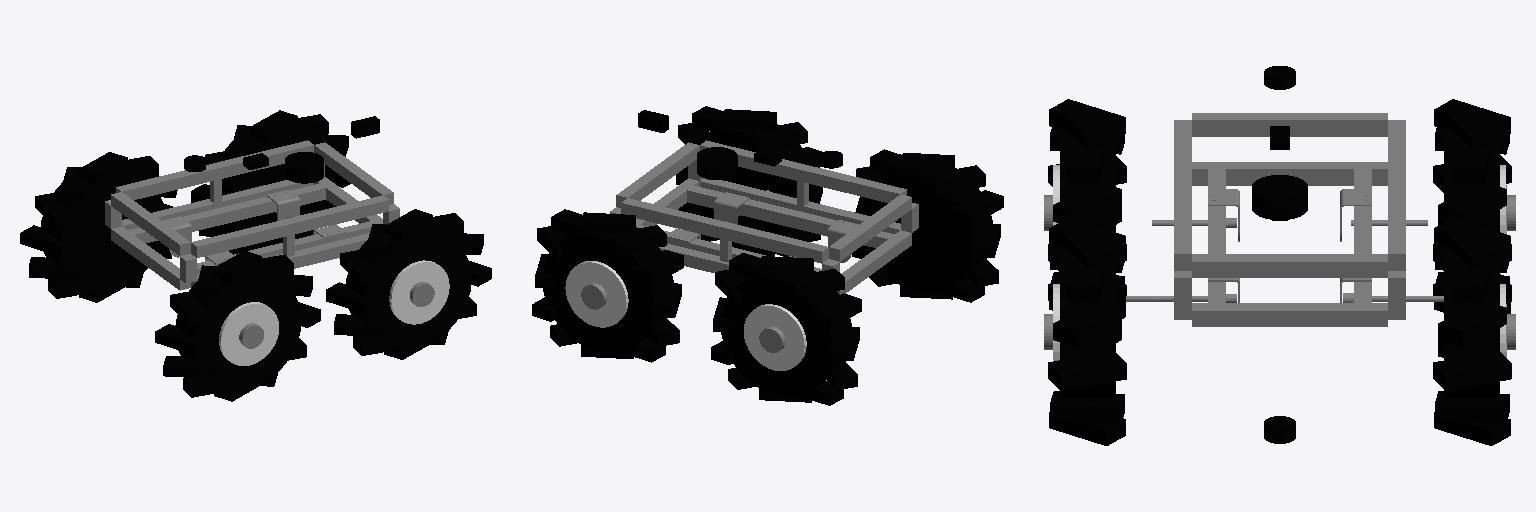
The robot description file, URDF, robot "agrobot":
<?xml version="1.0"?>

<robot name="agrobot">

  <webots>
    <!-- /scan é publicado pelo AgrobotDriver (stamps em tempo de simulação) -->
    <device reference="front_lidar" type="Lidar">
      <ros>
        <enabled>false</enabled>
      </ros>
    </device>
    <plugin type="agrobot_webots.agrobot_driver.AgrobotDriver">
      <wheelRadius>0.22</wheelRadius>
      <wheelSeparation>0.96</wheelSeparation>
      <wheelSeparationScale>1.33</wheelSeparationScale>
      <!-- /odom + TF odom->base_link pelo driver; o simulation.launch.py
           troca para false com ekf:=true (quem publica é o EKF) -->
      <publishOdom>true</publishOdom>
    </plugin>
  </webots>

  <material name="aluminium">
    <color rgba="0.55 0.55 0.55 1"/>
  </material>

  <material name="black">
    <color rgba="0.02 0.02 0.02 1"/>
  </material>

  <material name="white">
    <color rgba="0.85 0.85 0.85 1"/>
  </material>

  <!-- CHASSIS REAL DO CAD -->
  <link name="base_link">
    <visual>
      <origin xyz="-0.5 -0.25 0.05" rpy="0 0 0"/>
      <geometry>
        <mesh filename="package://agrobot_description/meshes/chassis.stl"
              scale="0.001 0.001 0.001"/>
      </geometry>
      <material name="aluminium"/>
    </visual>

    <collision>
      <origin xyz="0 0 0.20"/>
      <geometry>
        <box size="1.2 0.8 0.35"/>
      </geometry>
    </collision>

    <!-- Massa do chassis + estrutura. Total com rodas ≈ 46 kg -->
    <inertial>
      <mass value="37.2"/>
      <origin xyz="0 0 0.20"/>
      <inertia ixx="2" iyy="2" izz="2" ixy="0" ixz="0" iyz="0"/>
    </inertial>
  </link>


  <!-- MACRO VISUAL REPETIDA MANUALMENTE: RODA AGRÍCOLA -->

  <!-- RODA FRENTE ESQUERDA -->
  <link name="front_left_wheel">

    <!-- pneu principal -->
    <visual>
      <origin xyz="0 0 0" rpy="1.5708 0 0"/>
      <geometry>
        <cylinder radius="0.22" length="0.14"/>
      </geometry>
      <material name="black"/>
    </visual>

    <!-- jante branca -->
    <visual>
      <origin xyz="0 0.075 0" rpy="1.5708 0 0"/>
      <geometry>
        <cylinder radius="0.12" length="0.02"/>
      </geometry>
      <material name="white"/>
    </visual>

    <!-- cubo central -->
    <visual>
      <origin xyz="0 0.09 0" rpy="1.5708 0 0"/>
      <geometry>
        <cylinder radius="0.045" length="0.035"/>
      </geometry>
      <material name="aluminium"/>
    </visual>

    <!-- garras agrícolas -->
    <visual><origin xyz="0.23 0 0" rpy="0 0 0.40"/><geometry><box size="0.08 0.18 0.045"/></geometry><material name="black"/></visual>
    <visual><origin xyz="0.199 0 0.115" rpy="0 0 0.92"/><geometry><box size="0.08 0.18 0.045"/></geometry><material name="black"/></visual>
    <visual><origin xyz="0.115 0 0.199" rpy="0 0 1.45"/><geometry><box size="0.08 0.18 0.045"/></geometry><material name="black"/></visual>
    <visual><origin xyz="0 0 0.23" rpy="0 0 1.97"/><geometry><box size="0.08 0.18 0.045"/></geometry><material name="black"/></visual>
    <visual><origin xyz="-0.115 0 0.199" rpy="0 0 2.50"/><geometry><box size="0.08 0.18 0.045"/></geometry><material name="black"/></visual>
    <visual><origin xyz="-0.199 0 0.115" rpy="0 0 3.02"/><geometry><box size="0.08 0.18 0.045"/></geometry><material name="black"/></visual>
    <visual><origin xyz="-0.23 0 0" rpy="0 0 3.54"/><geometry><box size="0.08 0.18 0.045"/></geometry><material name="black"/></visual>
    <visual><origin xyz="-0.199 0 -0.115" rpy="0 0 4.07"/><geometry><box size="0.08 0.18 0.045"/></geometry><material name="black"/></visual>
    <visual><origin xyz="-0.115 0 -0.199" rpy="0 0 4.59"/><geometry><box size="0.08 0.18 0.045"/></geometry><material name="black"/></visual>
    <visual><origin xyz="0 0 -0.23" rpy="0 0 5.12"/><geometry><box size="0.08 0.18 0.045"/></geometry><material name="black"/></visual>
    <visual><origin xyz="0.115 0 -0.199" rpy="0 0 5.64"/><geometry><box size="0.08 0.18 0.045"/></geometry><material name="black"/></visual>
    <visual><origin xyz="0.199 0 -0.115" rpy="0 0 6.16"/><geometry><box size="0.08 0.18 0.045"/></geometry><material name="black"/></visual>

    <collision>
      <origin xyz="0 0 0" rpy="1.5708 0 0"/>
      <geometry>
        <cylinder radius="0.22" length="0.14"/>
      </geometry>
    </collision>

    <inertial>
      <mass value="2.2"/>
      <origin xyz="0 0 0"/>
      <inertia ixx="0.04" iyy="0.04" izz="0.04" ixy="0" ixz="0" iyz="0"/>
    </inertial>
  </link>

  <joint name="front_left_wheel_joint" type="continuous">
    <parent link="base_link"/>
    <child link="front_left_wheel"/>
    <origin xyz="0.35 0.48 -0.02" rpy="0 0 0"/>
    <axis xyz="0 1 0"/>
    <limit effort="100" velocity="20"/>
  </joint>


  <!-- RODA FRENTE DIREITA -->
  <link name="front_right_wheel">
    <visual><origin xyz="0 0 0" rpy="1.5708 0 0"/><geometry><cylinder radius="0.22" length="0.14"/></geometry><material name="black"/></visual>
    <visual><origin xyz="0 -0.075 0" rpy="1.5708 0 0"/><geometry><cylinder radius="0.12" length="0.02"/></geometry><material name="white"/></visual>
    <visual><origin xyz="0 -0.09 0" rpy="1.5708 0 0"/><geometry><cylinder radius="0.045" length="0.035"/></geometry><material name="aluminium"/></visual>

    <visual><origin xyz="0.23 0 0" rpy="0 0 0.40"/><geometry><box size="0.08 0.18 0.045"/></geometry><material name="black"/></visual>
    <visual><origin xyz="0.199 0 0.115" rpy="0 0 0.92"/><geometry><box size="0.08 0.18 0.045"/></geometry><material name="black"/></visual>
    <visual><origin xyz="0.115 0 0.199" rpy="0 0 1.45"/><geometry><box size="0.08 0.18 0.045"/></geometry><material name="black"/></visual>
    <visual><origin xyz="0 0 0.23" rpy="0 0 1.97"/><geometry><box size="0.08 0.18 0.045"/></geometry><material name="black"/></visual>
    <visual><origin xyz="-0.115 0 0.199" rpy="0 0 2.50"/><geometry><box size="0.08 0.18 0.045"/></geometry><material name="black"/></visual>
    <visual><origin xyz="-0.199 0 0.115" rpy="0 0 3.02"/><geometry><box size="0.08 0.18 0.045"/></geometry><material name="black"/></visual>
    <visual><origin xyz="-0.23 0 0" rpy="0 0 3.54"/><geometry><box size="0.08 0.18 0.045"/></geometry><material name="black"/></visual>
    <visual><origin xyz="-0.199 0 -0.115" rpy="0 0 4.07"/><geometry><box size="0.08 0.18 0.045"/></geometry><material name="black"/></visual>
    <visual><origin xyz="-0.115 0 -0.199" rpy="0 0 4.59"/><geometry><box size="0.08 0.18 0.045"/></geometry><material name="black"/></visual>
    <visual><origin xyz="0 0 -0.23" rpy="0 0 5.12"/><geometry><box size="0.08 0.18 0.045"/></geometry><material name="black"/></visual>
    <visual><origin xyz="0.115 0 -0.199" rpy="0 0 5.64"/><geometry><box size="0.08 0.18 0.045"/></geometry><material name="black"/></visual>
    <visual><origin xyz="0.199 0 -0.115" rpy="0 0 6.16"/><geometry><box size="0.08 0.18 0.045"/></geometry><material name="black"/></visual>

    <collision><origin xyz="0 0 0" rpy="1.5708 0 0"/><geometry><cylinder radius="0.22" length="0.14"/></geometry></collision>
    <inertial><mass value="2.2"/><origin xyz="0 0 0"/><inertia ixx="0.04" iyy="0.04" izz="0.04" ixy="0" ixz="0" iyz="0"/></inertial>
  </link>

  <joint name="front_right_wheel_joint" type="continuous">
    <parent link="base_link"/>
    <child link="front_right_wheel"/>
    <origin xyz="0.35 -0.48 -0.02" rpy="0 0 0"/>
    <axis xyz="0 1 0"/>
    <limit effort="100" velocity="20"/>
  </joint>


  <!-- RODA TRÁS ESQUERDA -->
  <link name="rear_left_wheel">
    <visual><origin xyz="0 0 0" rpy="1.5708 0 0"/><geometry><cylinder radius="0.22" length="0.14"/></geometry><material name="black"/></visual>
    <visual><origin xyz="0 0.075 0" rpy="1.5708 0 0"/><geometry><cylinder radius="0.12" length="0.02"/></geometry><material name="white"/></visual>
    <visual><origin xyz="0 0.09 0" rpy="1.5708 0 0"/><geometry><cylinder radius="0.045" length="0.035"/></geometry><material name="aluminium"/></visual>

    <visual><origin xyz="0.23 0 0" rpy="0 0 0.40"/><geometry><box size="0.08 0.18 0.045"/></geometry><material name="black"/></visual>
    <visual><origin xyz="0.199 0 0.115" rpy="0 0 0.92"/><geometry><box size="0.08 0.18 0.045"/></geometry><material name="black"/></visual>
    <visual><origin xyz="0.115 0 0.199" rpy="0 0 1.45"/><geometry><box size="0.08 0.18 0.045"/></geometry><material name="black"/></visual>
    <visual><origin xyz="0 0 0.23" rpy="0 0 1.97"/><geometry><box size="0.08 0.18 0.045"/></geometry><material name="black"/></visual>
    <visual><origin xyz="-0.115 0 0.199" rpy="0 0 2.50"/><geometry><box size="0.08 0.18 0.045"/></geometry><material name="black"/></visual>
    <visual><origin xyz="-0.199 0 0.115" rpy="0 0 3.02"/><geometry><box size="0.08 0.18 0.045"/></geometry><material name="black"/></visual>
    <visual><origin xyz="-0.23 0 0" rpy="0 0 3.54"/><geometry><box size="0.08 0.18 0.045"/></geometry><material name="black"/></visual>
    <visual><origin xyz="-0.199 0 -0.115" rpy="0 0 4.07"/><geometry><box size="0.08 0.18 0.045"/></geometry><material name="black"/></visual>
    <visual><origin xyz="-0.115 0 -0.199" rpy="0 0 4.59"/><geometry><box size="0.08 0.18 0.045"/></geometry><material name="black"/></visual>
    <visual><origin xyz="0 0 -0.23" rpy="0 0 5.12"/><geometry><box size="0.08 0.18 0.045"/></geometry><material name="black"/></visual>
    <visual><origin xyz="0.115 0 -0.199" rpy="0 0 5.64"/><geometry><box size="0.08 0.18 0.045"/></geometry><material name="black"/></visual>
    <visual><origin xyz="0.199 0 -0.115" rpy="0 0 6.16"/><geometry><box size="0.08 0.18 0.045"/></geometry><material name="black"/></visual>

    <collision><origin xyz="0 0 0" rpy="1.5708 0 0"/><geometry><cylinder radius="0.22" length="0.14"/></geometry></collision>
    <inertial><mass value="2.2"/><origin xyz="0 0 0"/><inertia ixx="0.04" iyy="0.04" izz="0.04" ixy="0" ixz="0" iyz="0"/></inertial>
  </link>

  <joint name="rear_left_wheel_joint" type="continuous">
    <parent link="base_link"/>
    <child link="rear_left_wheel"/>
    <origin xyz="-0.35 0.48 -0.02" rpy="0 0 0"/>
    <axis xyz="0 1 0"/>
    <limit effort="100" velocity="20"/>
  </joint>


  <!-- RODA TRÁS DIREITA -->
  <link name="rear_right_wheel">
    <visual><origin xyz="0 0 0" rpy="1.5708 0 0"/><geometry><cylinder radius="0.22" length="0.14"/></geometry><material name="black"/></visual>
    <visual><origin xyz="0 -0.075 0" rpy="1.5708 0 0"/><geometry><cylinder radius="0.12" length="0.02"/></geometry><material name="white"/></visual>
    <visual><origin xyz="0 -0.09 0" rpy="1.5708 0 0"/><geometry><cylinder radius="0.045" length="0.035"/></geometry><material name="aluminium"/></visual>

    <visual><origin xyz="0.23 0 0" rpy="0 0 0.40"/><geometry><box size="0.08 0.18 0.045"/></geometry><material name="black"/></visual>
    <visual><origin xyz="0.199 0 0.115" rpy="0 0 0.92"/><geometry><box size="0.08 0.18 0.045"/></geometry><material name="black"/></visual>
    <visual><origin xyz="0.115 0 0.199" rpy="0 0 1.45"/><geometry><box size="0.08 0.18 0.045"/></geometry><material name="black"/></visual>
    <visual><origin xyz="0 0 0.23" rpy="0 0 1.97"/><geometry><box size="0.08 0.18 0.045"/></geometry><material name="black"/></visual>
    <visual><origin xyz="-0.115 0 0.199" rpy="0 0 2.50"/><geometry><box size="0.08 0.18 0.045"/></geometry><material name="black"/></visual>
    <visual><origin xyz="-0.199 0 0.115" rpy="0 0 3.02"/><geometry><box size="0.08 0.18 0.045"/></geometry><material name="black"/></visual>
    <visual><origin xyz="-0.23 0 0" rpy="0 0 3.54"/><geometry><box size="0.08 0.18 0.045"/></geometry><material name="black"/></visual>
    <visual><origin xyz="-0.199 0 -0.115" rpy="0 0 4.07"/><geometry><box size="0.08 0.18 0.045"/></geometry><material name="black"/></visual>
    <visual><origin xyz="-0.115 0 -0.199" rpy="0 0 4.59"/><geometry><box size="0.08 0.18 0.045"/></geometry><material name="black"/></visual>
    <visual><origin xyz="0 0 -0.23" rpy="0 0 5.12"/><geometry><box size="0.08 0.18 0.045"/></geometry><material name="black"/></visual>
    <visual><origin xyz="0.115 0 -0.199" rpy="0 0 5.64"/><geometry><box size="0.08 0.18 0.045"/></geometry><material name="black"/></visual>
    <visual><origin xyz="0.199 0 -0.115" rpy="0 0 6.16"/><geometry><box size="0.08 0.18 0.045"/></geometry><material name="black"/></visual>

    <collision><origin xyz="0 0 0" rpy="1.5708 0 0"/><geometry><cylinder radius="0.22" length="0.14"/></geometry></collision>
    <inertial><mass value="2.2"/><origin xyz="0 0 0"/><inertia ixx="0.04" iyy="0.04" izz="0.04" ixy="0" ixz="0" iyz="0"/></inertial>
  </link>

  <joint name="rear_right_wheel_joint" type="continuous">
    <parent link="base_link"/>
    <child link="rear_right_wheel"/>
    <origin xyz="-0.35 -0.48 -0.02" rpy="0 0 0"/>
    <axis xyz="0 1 0"/>
    <limit effort="100" velocity="20"/>
  </joint>


  <gazebo>
    <plugin filename="gz-sim-diff-drive-system"
            name="gz::sim::systems::DiffDrive">

      <left_joint>front_left_wheel_joint</left_joint>
      <left_joint>rear_left_wheel_joint</left_joint>

      <right_joint>front_right_wheel_joint</right_joint>
      <right_joint>rear_right_wheel_joint</right_joint>

      <wheel_separation>0.96</wheel_separation>
      <wheel_radius>0.22</wheel_radius>

      <topic>/cmd_vel</topic>
      <odom_topic>/odom</odom_topic>
      <frame_id>odom</frame_id>
      <child_frame_id>base_link</child_frame_id>

    </plugin>
  </gazebo>

  <!-- SENSOR: IMU -->
  <link name="imu_link">
    <visual>
      <origin xyz="0 0 0"/>
      <geometry>
        <box size="0.08 0.05 0.03"/>
      </geometry>
      <material name="black"/>
    </visual>

    <collision>
      <geometry>
        <box size="0.08 0.05 0.03"/>
      </geometry>
    </collision>

    <inertial>
      <mass value="0.05"/>
      <origin xyz="0 0 0"/>
      <inertia
        ixx="0.00002"
        iyy="0.00003"
        izz="0.00004"
        ixy="0"
        ixz="0"
        iyz="0"/>
    </inertial>
  </link>

  <joint name="imu_joint" type="fixed">
    <parent link="base_link"/>
    <child link="imu_link"/>
    <origin xyz="0 0 0.35" rpy="0 0 0"/>
  </joint>

  <gazebo reference="imu_link">
    <sensor name="imu_sensor" type="imu">
      <always_on>true</always_on>
      <update_rate>50</update_rate>
      <visualize>false</visualize>
      <topic>/imu</topic>
    </sensor>
  </gazebo>


  <!-- SENSOR: GPS -->
  <link name="gps_link">
    <visual>
      <origin xyz="0 0 0"/>
      <geometry>
        <cylinder radius="0.04" length="0.03"/>
      </geometry>
      <material name="black"/>
    </visual>
  </link>

  <joint name="gps_joint" type="fixed">
    <parent link="base_link"/>
    <child link="gps_link"/>
    <origin xyz="-0.25 0 0.40" rpy="0 0 0"/>
  </joint>


  <!-- SENSOR: LIDAR -->
  <link name="lidar_link">
    <visual>
      <origin xyz="0 0 0"/>
      <geometry>
        <cylinder radius="0.07" length="0.06"/>
      </geometry>
      <material name="black"/>
    </visual>
  </link>

  <joint name="lidar_joint" type="fixed">
  <parent link="base_link"/>
  <child link="lidar_link"/>
  <origin xyz="0.20 0 0.28" rpy="0 0 0"/>
  </joint>

  <!-- SENSOR: CAMERA RGB -->
  <link name="camera_link">
    <visual>
      <origin xyz="0 0 0"/>
      <geometry>
        <box size="0.10 0.04 0.05"/>
      </geometry>
      <material name="black"/>
    </visual>
  </link>

  <joint name="camera_joint" type="fixed">
    <parent link="base_link"/>
    <child link="camera_link"/>
    <origin xyz="0.45 0 0.38" rpy="0 0 0"/>
  </joint>

  <!-- SENSOR: LIDAR FRONTAL BAIXO (Webots/Nav2: vê caixas de 0.2 m) -->
  <link name="front_lidar_link">
    <visual>
      <origin xyz="0 0 0"/>
      <geometry>
        <cylinder radius="0.04" length="0.04"/>
      </geometry>
      <material name="black"/>
    </visual>
  </link>

  <joint name="front_lidar_joint" type="fixed">
    <parent link="base_link"/>
    <child link="front_lidar_link"/>
    <origin xyz="0.65 0 -0.15" rpy="0 0 0"/>
  </joint>

<gazebo reference="lidar_link">
  <sensor name="agrobot_lidar" type="gpu_lidar">
    <topic>/scan</topic>
    <update_rate>10</update_rate>

    <lidar>
      <scan>
        <horizontal>
          <samples>360</samples>
          <resolution>1</resolution>
          <min_angle>-3.1416</min_angle>
          <max_angle>3.1416</max_angle>
        </horizontal>
      </scan>

      <range>
        <min>0.12</min>
        <max>12.0</max>
        <resolution>0.01</resolution>
      </range>
    </lidar>

    <always_on>true</always_on>
    <visualize>true</visualize>
  </sensor>
</gazebo>


</robot>

--- Facts derived from the render (not from the file) ---
Views: 3 orthographic renders of the robot side by side, from view 1: azimuth 30°, elevation 25°; view 2: azimuth 150°, elevation 25°; view 3: azimuth 270°, elevation 25°.
Model agrobot with 10 links and 9 joints (4 continuous, 5 fixed), rooted at base_link, posed all joints at 0.
Visible links, largest first — view 1: base_link, front_right_wheel, rear_right_wheel, rear_left_wheel, front_left_wheel, lidar_link; view 2: base_link, front_left_wheel, rear_left_wheel, rear_right_wheel, front_right_wheel, lidar_link, camera_link; view 3: base_link, front_right_wheel, front_left_wheel, rear_left_wheel, rear_right_wheel, lidar_link, front_lidar_link, gps_link, camera_link.
Link boxes in pixels (left/top/right/bottom): base_link: left=105, top=140, right=399, bottom=290; front_right_wheel: left=326, top=209, right=491, bottom=359; rear_right_wheel: left=155, top=250, right=320, bottom=401; rear_left_wheel: left=20, top=152, right=177, bottom=302; front_left_wheel: left=191, top=110, right=350, bottom=254; lidar_link: left=285, top=152, right=323, bottom=183; base_link: left=610, top=140, right=918, bottom=294; front_left_wheel: left=532, top=209, right=683, bottom=362; rear_left_wheel: left=711, top=253, right=861, bottom=405; rear_right_wheel: left=852, top=149, right=1003, bottom=302; front_right_wheel: left=676, top=106, right=822, bottom=256; lidar_link: left=697, top=147, right=737, bottom=179; camera_link: left=638, top=110, right=668, bottom=132; base_link: left=1126, top=113, right=1443, bottom=326; front_right_wheel: left=1044, top=218, right=1126, bottom=445; front_left_wheel: left=1433, top=218, right=1515, bottom=445; rear_left_wheel: left=1433, top=99, right=1515, bottom=313; rear_right_wheel: left=1044, top=99, right=1126, bottom=318; lidar_link: left=1252, top=175, right=1307, bottom=219; front_lidar_link: left=1264, top=416, right=1295, bottom=443; gps_link: left=1264, top=66, right=1295, bottom=89; camera_link: left=1272, top=186, right=1287, bottom=220.
Size in the robot's own frame: 1.34 by 1.18 by 0.6875 metres.
1 mesh visuals loaded from 1 distinct referenced files (1 binary STL).
